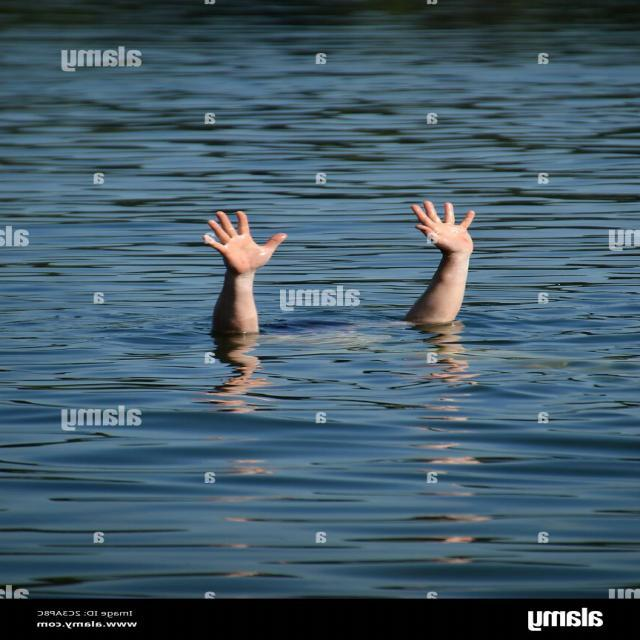Out of Water: (188, 192, 496, 364)
